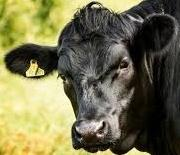muzzles: (69, 119, 116, 152)
